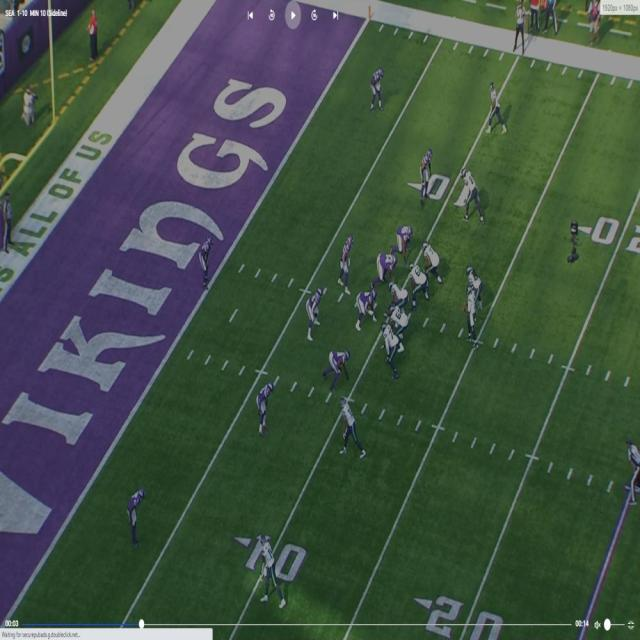center: (388, 280, 406, 306)
db: (129, 487, 147, 541), (256, 379, 273, 430), (419, 150, 435, 196), (200, 234, 213, 290), (371, 66, 385, 106)
lb: (304, 288, 323, 338), (341, 234, 354, 290)
qb: (466, 284, 476, 338)
skill: (258, 530, 280, 602), (462, 164, 483, 216), (343, 398, 360, 452), (490, 78, 505, 128), (469, 266, 480, 300)
